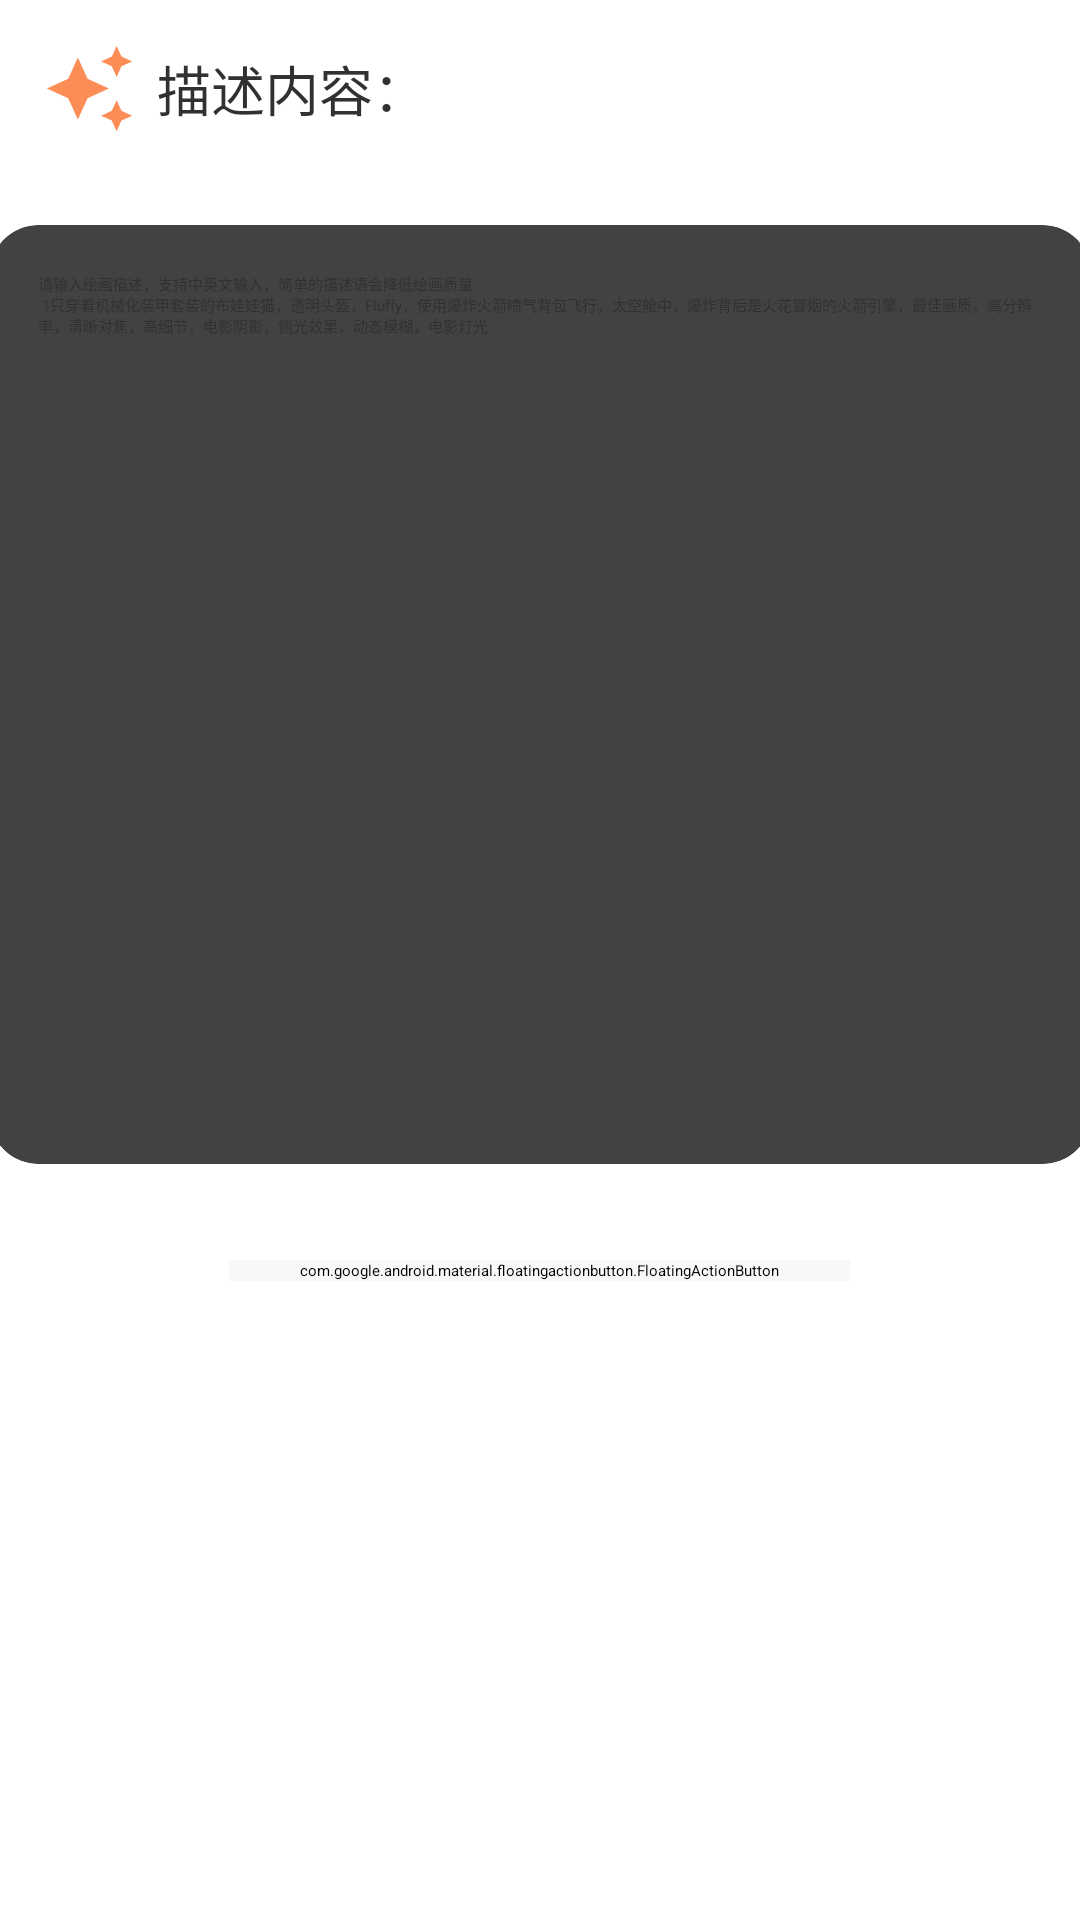

Locate icon controls on the screen. Image size 1080x1920, boxes as (x1, y1, x2, y2).
auto awesome: (47, 46, 132, 131)
